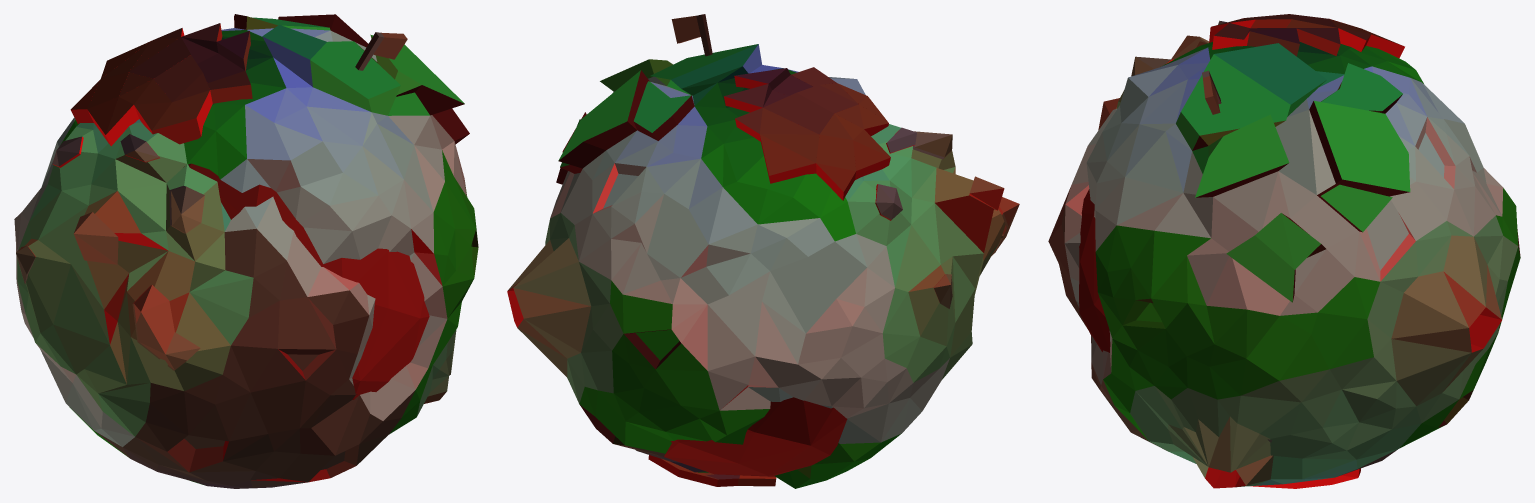
Rendered from planet4.fbx.
3 renders of one model, left to right at view 1: azimuth 30°, elevation 25°; view 2: azimuth 150°, elevation 25°; view 3: azimuth 270°, elevation 25°, orthographic. The views are drawn at different scales.
Visible parts, largest first — view 1: planet, poles, water, Mesh (2), Locator; view 2: planet, poles, water, Mesh (2), Locator; view 3: planet, poles, water, Mesh (2), Locator.
Boxes of the visible parts, x1,y1,x2,y2 form: planet: [14, 14, 478, 488]; poles: [70, 23, 252, 146]; water: [183, 163, 429, 399]; Mesh (2): [16, 134, 204, 370]; Locator: [355, 32, 407, 70]; planet: [507, 44, 1005, 488]; poles: [648, 67, 890, 486]; water: [664, 397, 847, 476]; Mesh (2): [875, 127, 1019, 308]; Locator: [671, 14, 712, 56]; planet: [1048, 41, 1520, 488]; poles: [1209, 14, 1404, 488]; water: [1079, 189, 1110, 352]; Mesh (2): [1098, 20, 1226, 130]; Locator: [1202, 70, 1221, 114].
Size of the model in its own units: 1060 by 1050 by 1017.
